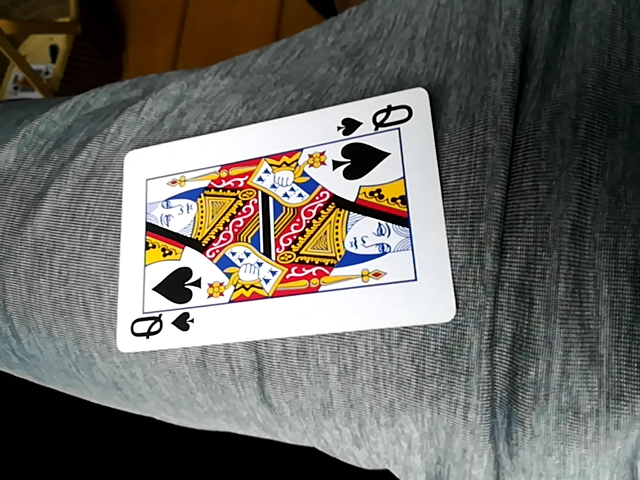ht q: (118, 87, 457, 356)
